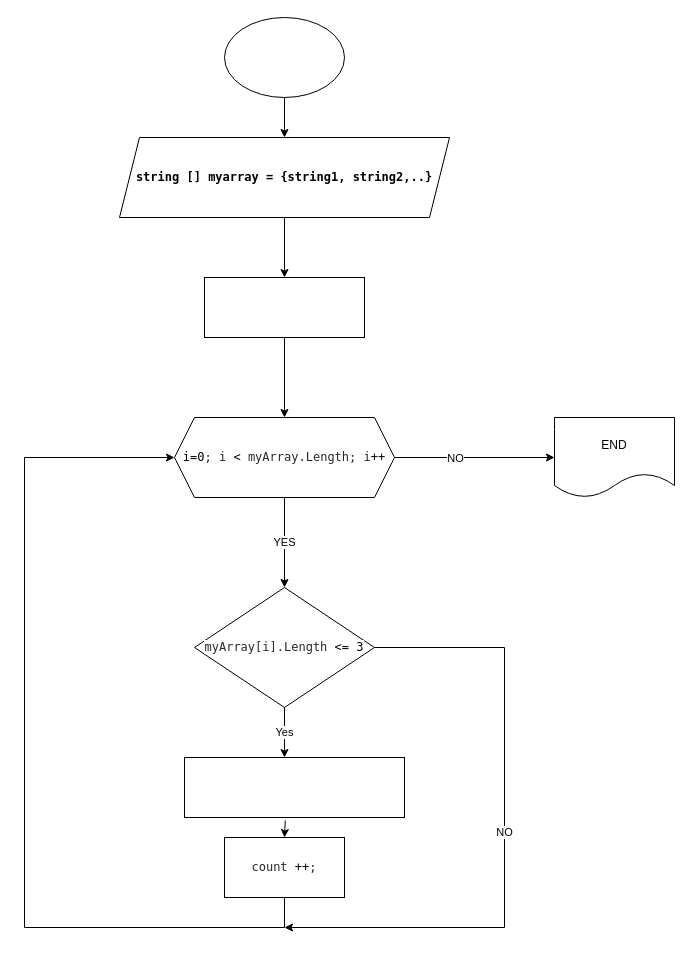
This 692x953 diagram has some shape labels left out. Each missing label, with the centre of its shape:
newArray [ count ] = myArray [ i ];: pixel 294 787
Start: pixel 284 57
string [] newArray, count = 0, i = 0: pixel 284 307
